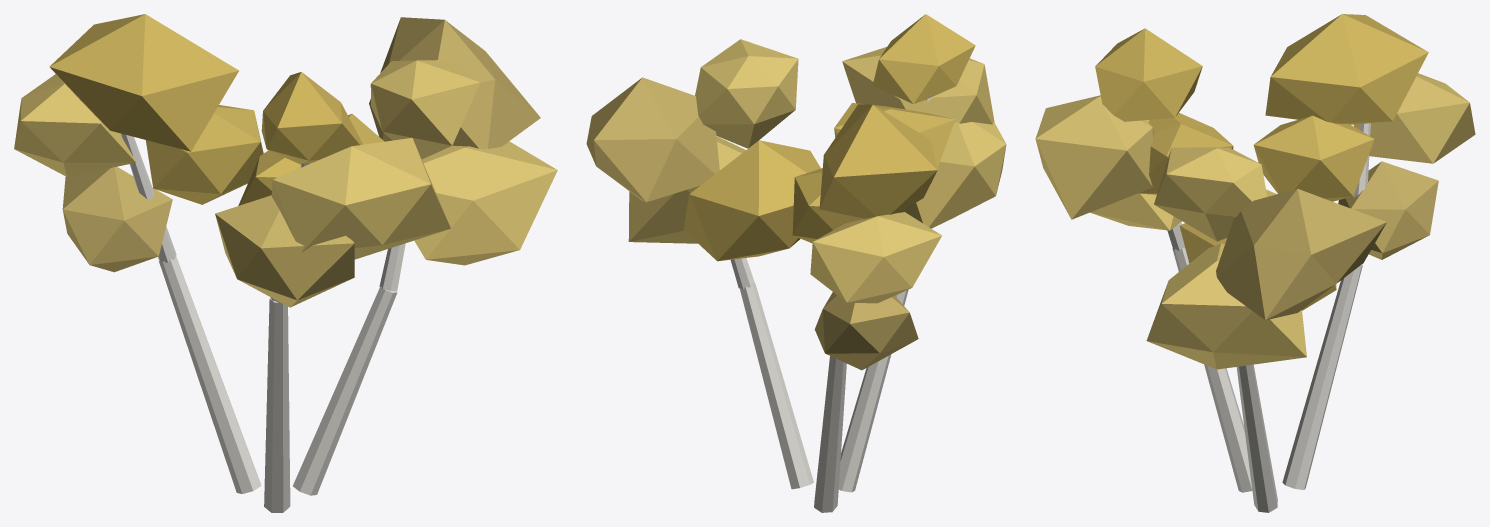
The model's file is MountainBirch.glb.
The picture shows the model from 3 angles, left to right: view 1: azimuth 30°, elevation 25°; view 2: azimuth 150°, elevation 25°; view 3: azimuth 270°, elevation 25°; orthographic projection. The views are drawn at different scales.
Parts seen in each view (by area): view 1: Birch crown.007, Birch crown.010, Birch crown, Birch crown.008, Birch crown.004, Birch crown.002, Birch crown.003, Birch crown.006, Birch crown.005, Birch crown.011, Limb.004, Limb.002 (+4 smaller); view 2: Birch crown.002, Birch crown.001, Birch crown.007, Birch crown.006, Birch crown.003, Birch crown.008, Birch crown.011, Birch crown.004, Birch crown.010, Limb.002, Birch crown, Limb.004 (+4 smaller); view 3: Birch crown.002, Birch crown.007, Birch crown, Birch crown.010, Birch crown.005, Birch crown.003, Birch crown.011, Birch crown.006, Birch crown.004, Limb.004, Limb.002, Limb.006 (+3 smaller).
Part boxes in pixels (box(x1,y1,x2,y2)): Birch crown.007: box(49, 14, 238, 151); Birch crown.010: box(271, 138, 450, 259); Birch crown: box(414, 141, 557, 265); Birch crown.008: box(215, 195, 354, 307); Birch crown.004: box(62, 166, 172, 272); Birch crown.002: box(369, 17, 540, 148); Birch crown.003: box(370, 60, 480, 159); Birch crown.006: box(14, 74, 135, 176); Birch crown.005: box(145, 105, 263, 204); Birch crown.011: box(261, 72, 362, 164); Limb.004: box(159, 256, 261, 493); Limb.002: box(293, 286, 397, 495); Birch crown.002: box(586, 77, 719, 202); Birch crown.001: box(683, 140, 820, 261); Birch crown.007: box(819, 104, 937, 218); Birch crown.006: box(810, 212, 941, 303); Birch crown.003: box(695, 39, 798, 148); Birch crown.008: box(899, 122, 1006, 228); Birch crown.011: box(872, 14, 975, 103); Birch crown.004: box(814, 292, 918, 370); Birch crown.010: box(842, 47, 994, 124); Limb.002: box(739, 283, 813, 489); Birch crown: box(628, 136, 745, 243); Limb.004: box(814, 356, 846, 512); Birch crown.002: box(1216, 188, 1386, 320); Birch crown.007: box(1265, 14, 1428, 124); Birch crown: box(1146, 243, 1306, 369); Birch crown.010: box(1035, 95, 1154, 219); Birch crown.005: box(1253, 115, 1374, 201); Birch crown.003: box(1154, 147, 1267, 241); Birch crown.011: box(1095, 28, 1202, 121); Birch crown.006: box(1354, 73, 1475, 163); Birch crown.004: box(1338, 161, 1438, 259); Limb.004: box(1282, 264, 1362, 489); Limb.002: box(1236, 364, 1277, 512); Limb.006: box(1172, 248, 1252, 492).
Size of the model in its own units: 5.44 by 5.58 by 4.96.
